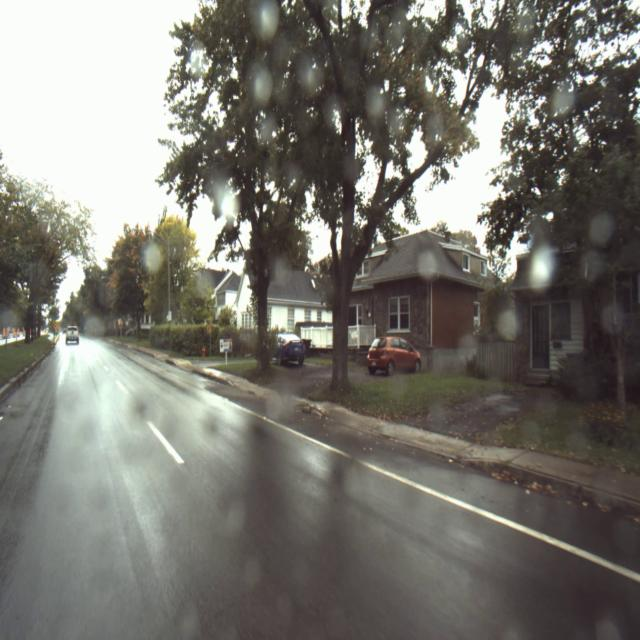car: (367, 338, 422, 376), (273, 332, 305, 366), (65, 326, 79, 345)
